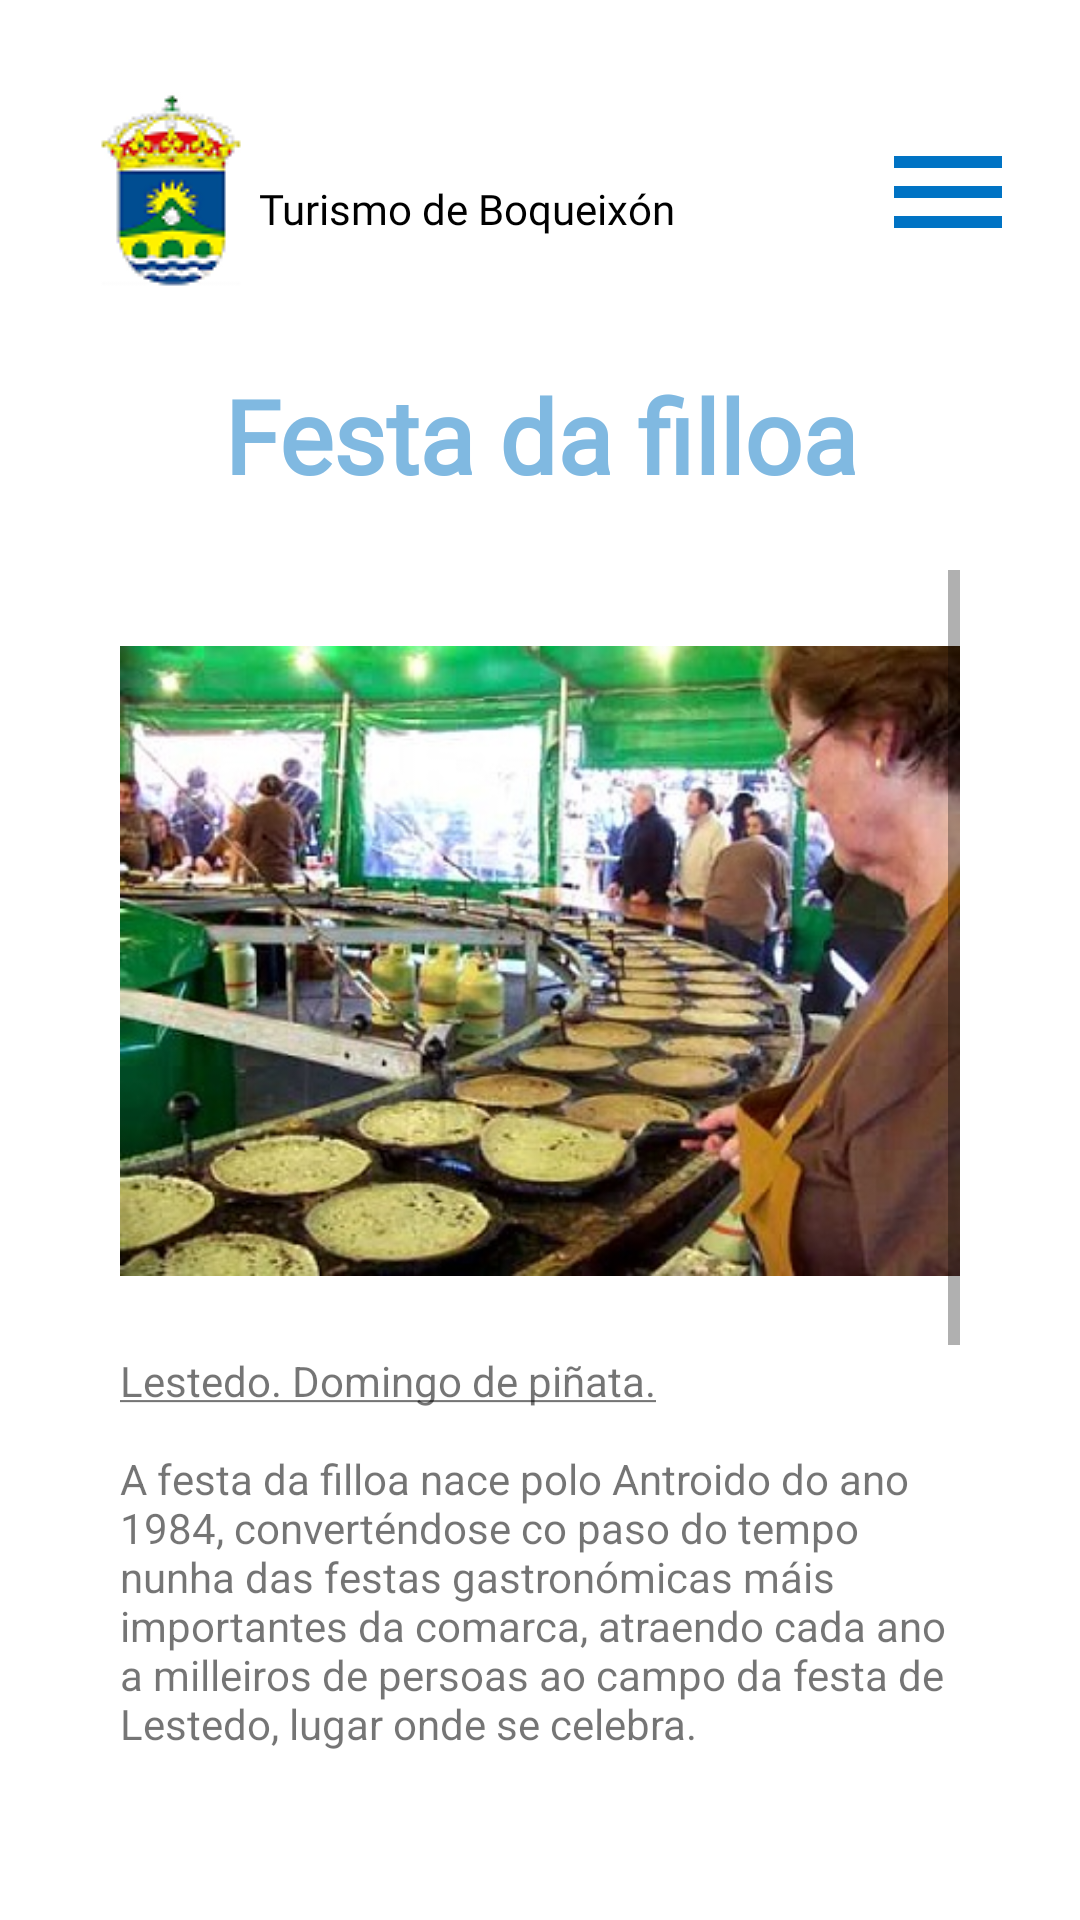

Named icons in this screenshot (1080×1920) and their centers, [x,y]:
hamburguesa: [948,192]
